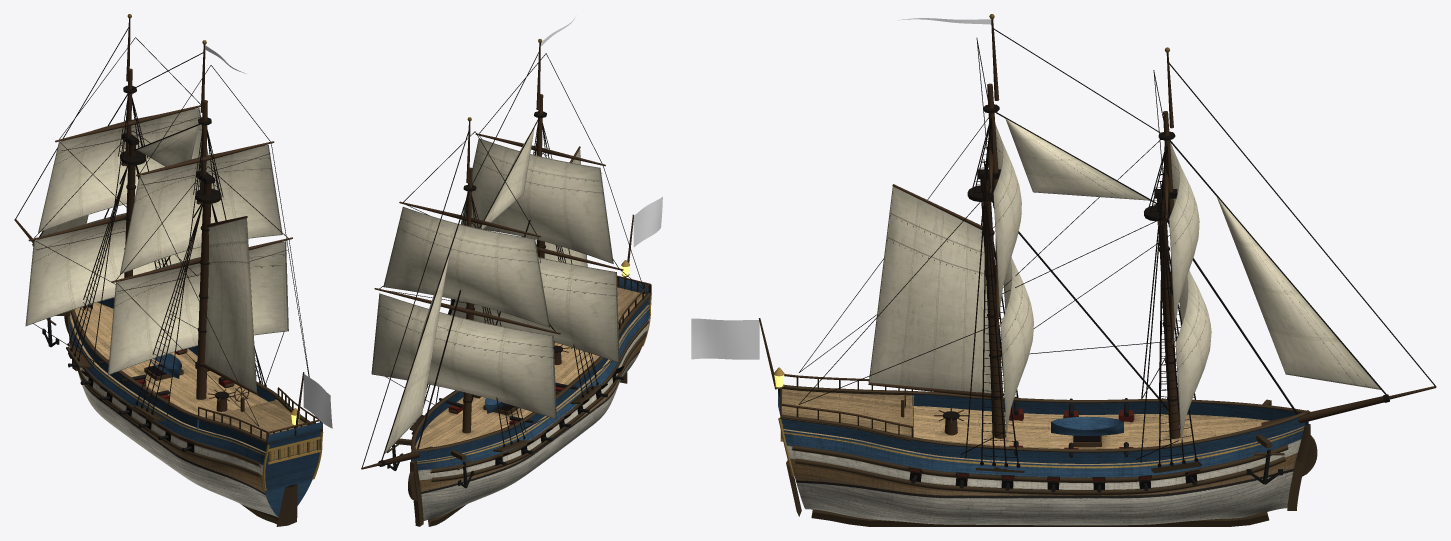
The model's file is sloop.gltf.
3 renders of one model, left to right at view 1: azimuth 30°, elevation 25°; view 2: azimuth 150°, elevation 25°; view 3: azimuth 270°, elevation 25°, orthographic. The views are drawn at different scales.
Parts seen in each view (by area): view 1: Hull, Sail_1_1, Sail_1_0_E, Sail_0_1, Sail_0_0_E, Sail_spanker, Sail_stay_1, Flag; view 2: Hull, Sail_0_0_E, Sail_0_1, Sail_1_1, Sail_1_0_E, Sail_jib_0, Sail_stay_1, Flag, Sail_spanker; view 3: Hull, Sail_spanker, Sail_jib_0, Sail_stay_1, Sail_0_0_E, Sail_1_0_E, Sail_0_1, Sail_1_1, Flag.
Part boxes in pixels (bbox=[...]): Hull: bbox=[14, 14, 323, 526]; Sail_1_1: bbox=[120, 145, 282, 274]; Sail_1_0_E: bbox=[108, 241, 288, 375]; Sail_0_1: bbox=[38, 108, 208, 232]; Sail_0_0_E: bbox=[25, 213, 201, 326]; Sail_spanker: bbox=[204, 217, 257, 393]; Sail_stay_1: bbox=[137, 125, 198, 166]; Flag: bbox=[303, 374, 332, 428]; Hull: bbox=[361, 39, 651, 526]; Sail_0_0_E: bbox=[371, 293, 556, 419]; Sail_0_1: bbox=[383, 207, 549, 327]; Sail_1_1: bbox=[461, 138, 613, 263]; Sail_1_0_E: bbox=[450, 257, 619, 362]; Sail_jib_0: bbox=[384, 255, 449, 453]; Sail_stay_1: bbox=[480, 128, 534, 229]; Flag: bbox=[633, 197, 662, 247]; Sail_spanker: bbox=[544, 149, 587, 266]; Hull: bbox=[758, 14, 1436, 526]; Sail_spanker: bbox=[869, 186, 993, 393]; Sail_jib_0: bbox=[1217, 197, 1380, 389]; Sail_stay_1: bbox=[1005, 118, 1149, 200]; Sail_0_0_E: bbox=[1175, 270, 1211, 445]; Sail_1_0_E: bbox=[1000, 257, 1033, 436]; Sail_0_1: bbox=[1169, 142, 1199, 330]; Sail_1_1: bbox=[993, 124, 1021, 312]; Flag: bbox=[691, 318, 759, 359].
Size of the model in its own units: 15.34 by 32.58 by 42.9.
Materials: 18 (4 with a texture image).
